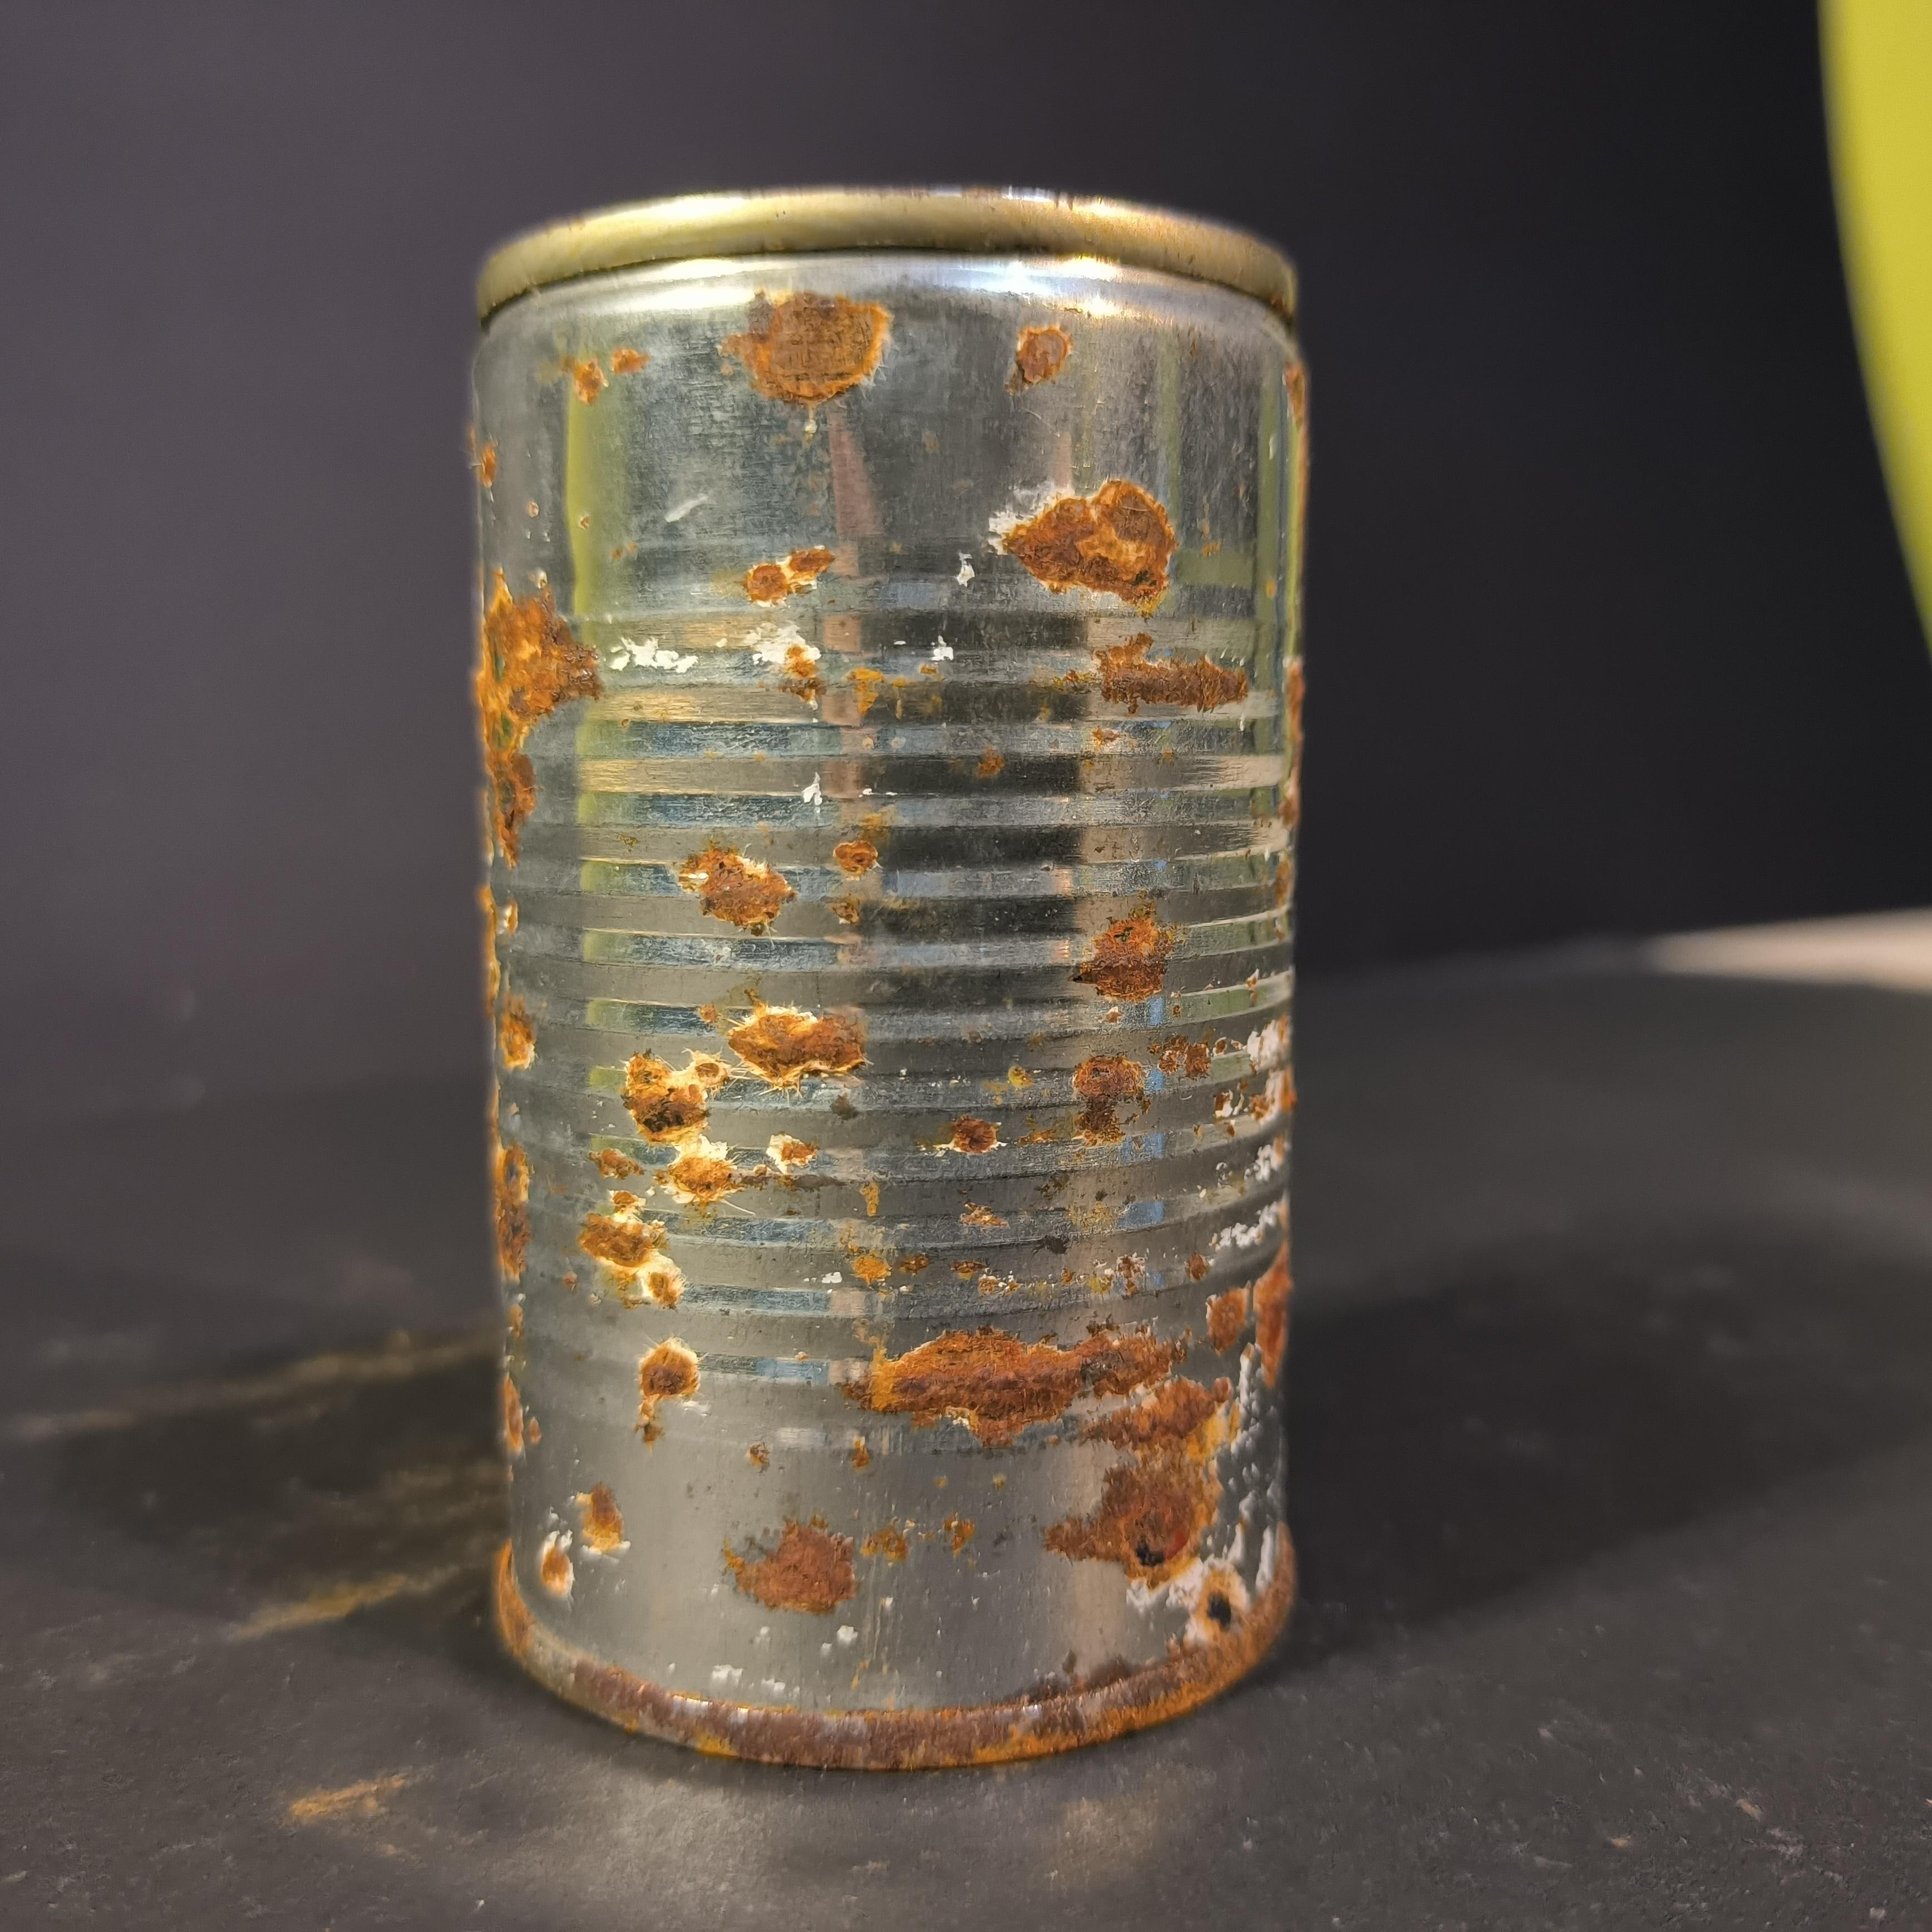Rusted: (448, 179, 1313, 1792)
